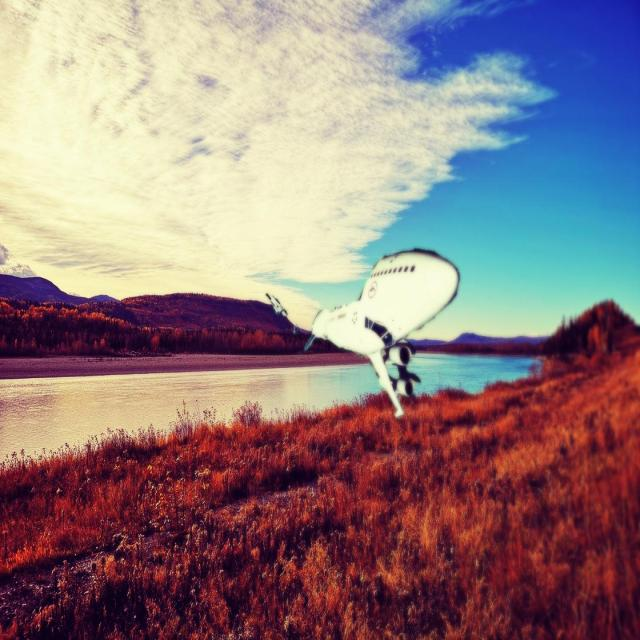airplane: (264, 246, 460, 419)
